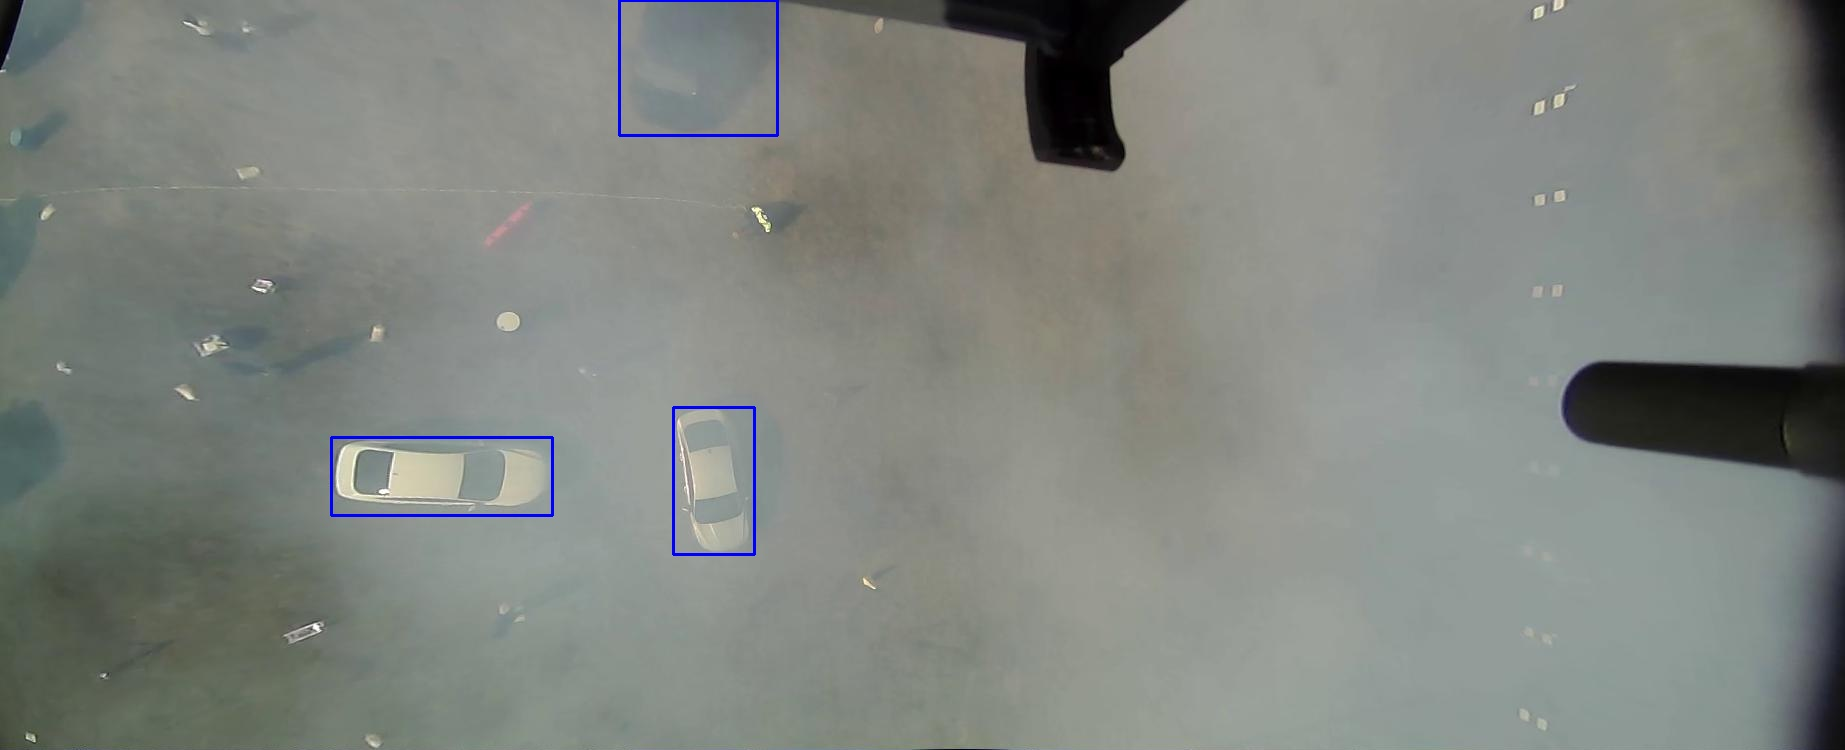vehicle: (0, 619, 135, 750), (437, 331, 515, 552), (407, 673, 554, 750)
